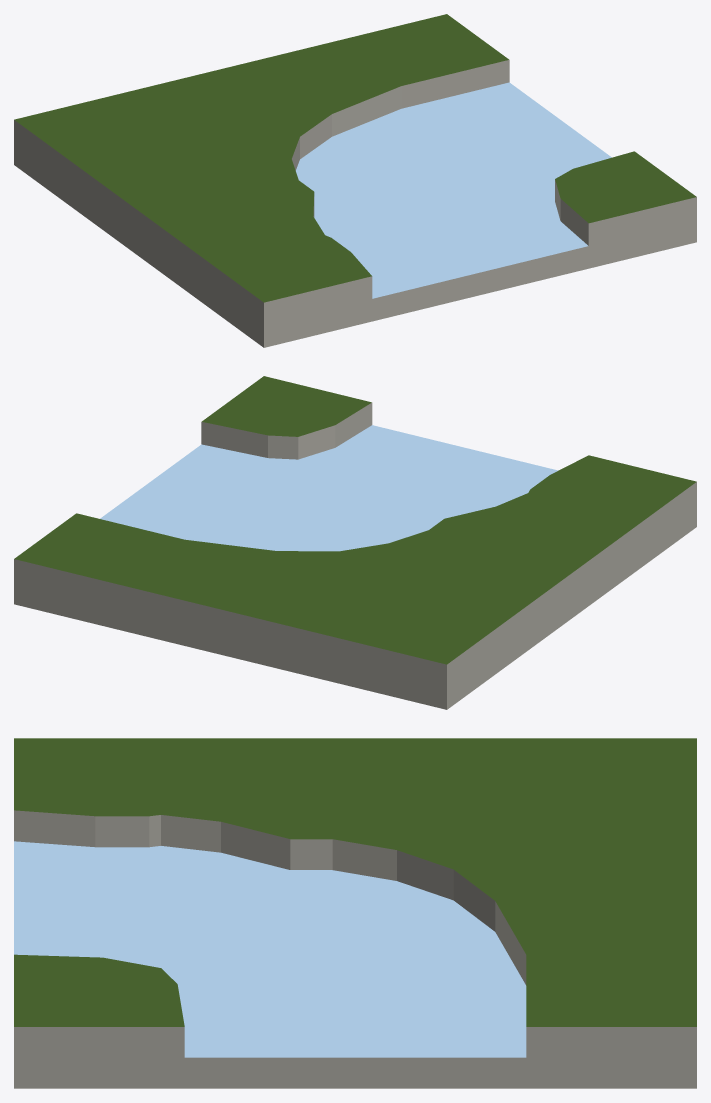
File: Terrain_Modular_Tiles_Grass_Rock_River_Bend_03.fbx
3 renders of one model, top to bottom at view 1: azimuth 30°, elevation 25°; view 2: azimuth 150°, elevation 25°; view 3: azimuth 270°, elevation 25°, orthographic. The views are drawn at different scales.
Parts seen in each view (by area): view 1: Terrain_Modular_Tiles_Grass_Rock_River_Bend_03; view 2: Terrain_Modular_Tiles_Grass_Rock_River_Bend_03; view 3: Terrain_Modular_Tiles_Grass_Rock_River_Bend_03.
Part boxes in pixels (bbox=[...]): Terrain_Modular_Tiles_Grass_Rock_River_Bend_03: bbox=[14, 14, 696, 347]; Terrain_Modular_Tiles_Grass_Rock_River_Bend_03: bbox=[14, 376, 696, 709]; Terrain_Modular_Tiles_Grass_Rock_River_Bend_03: bbox=[14, 738, 696, 1088].
Bounding box in the file's own units: 3000 × 300 × 3000.
